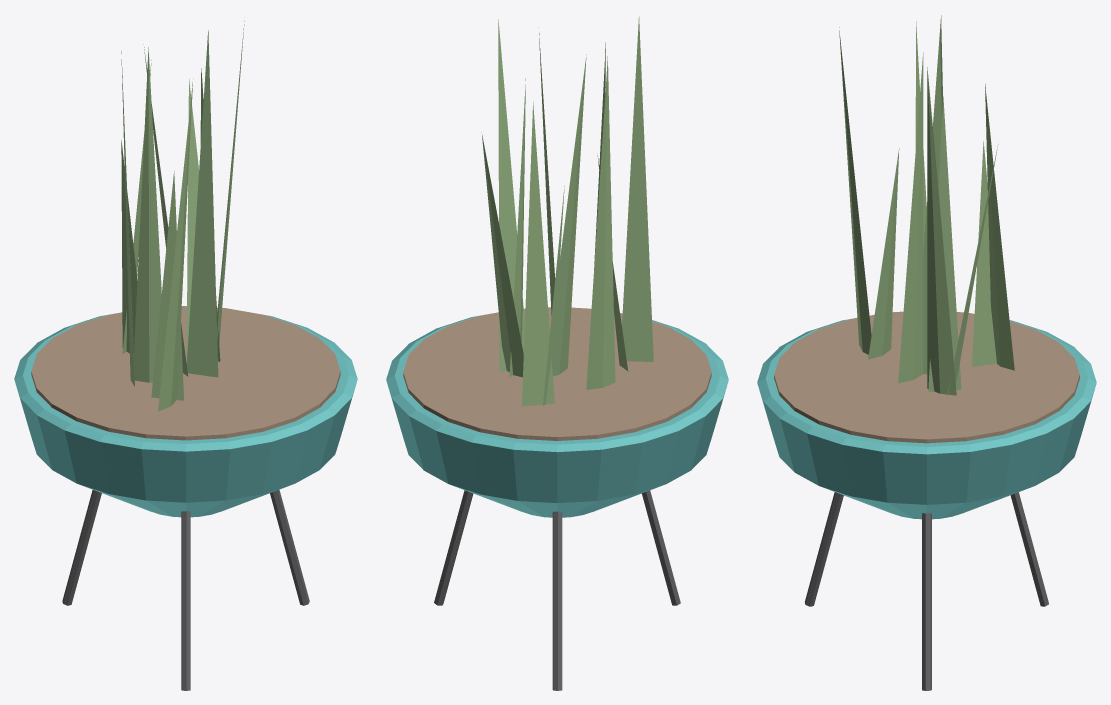
File: planter_bowl.glb
3 views of the same model, side by side, from view 1: azimuth 30°, elevation 25°; view 2: azimuth 150°, elevation 25°; view 3: azimuth 270°, elevation 25° (orthographic).
Visible parts, largest first — view 1: planter_bowl_mulch, planter_bowl_teal, planter_bowl_leaf, planter_bowl_dark; view 2: planter_bowl_leaf, planter_bowl_mulch, planter_bowl_teal, planter_bowl_dark; view 3: planter_bowl_leaf, planter_bowl_mulch, planter_bowl_teal, planter_bowl_dark.
Boxes of the visible parts, bbox=[...] form: planter_bowl_mulch: bbox=[31, 306, 340, 440]; planter_bowl_teal: bbox=[14, 315, 357, 517]; planter_bowl_leaf: bbox=[121, 21, 244, 411]; planter_bowl_dark: bbox=[62, 489, 309, 690]; planter_bowl_leaf: bbox=[481, 16, 653, 406]; planter_bowl_mulch: bbox=[403, 307, 711, 440]; planter_bowl_teal: bbox=[386, 315, 728, 517]; planter_bowl_dark: bbox=[434, 490, 680, 690]; planter_bowl_leaf: bbox=[839, 15, 1014, 395]; planter_bowl_mulch: bbox=[774, 311, 1079, 443]; planter_bowl_teal: bbox=[757, 319, 1096, 519]; planter_bowl_dark: bbox=[805, 492, 1048, 690].
Size of the model in its own units: 0.8 by 1.55 by 0.8.
